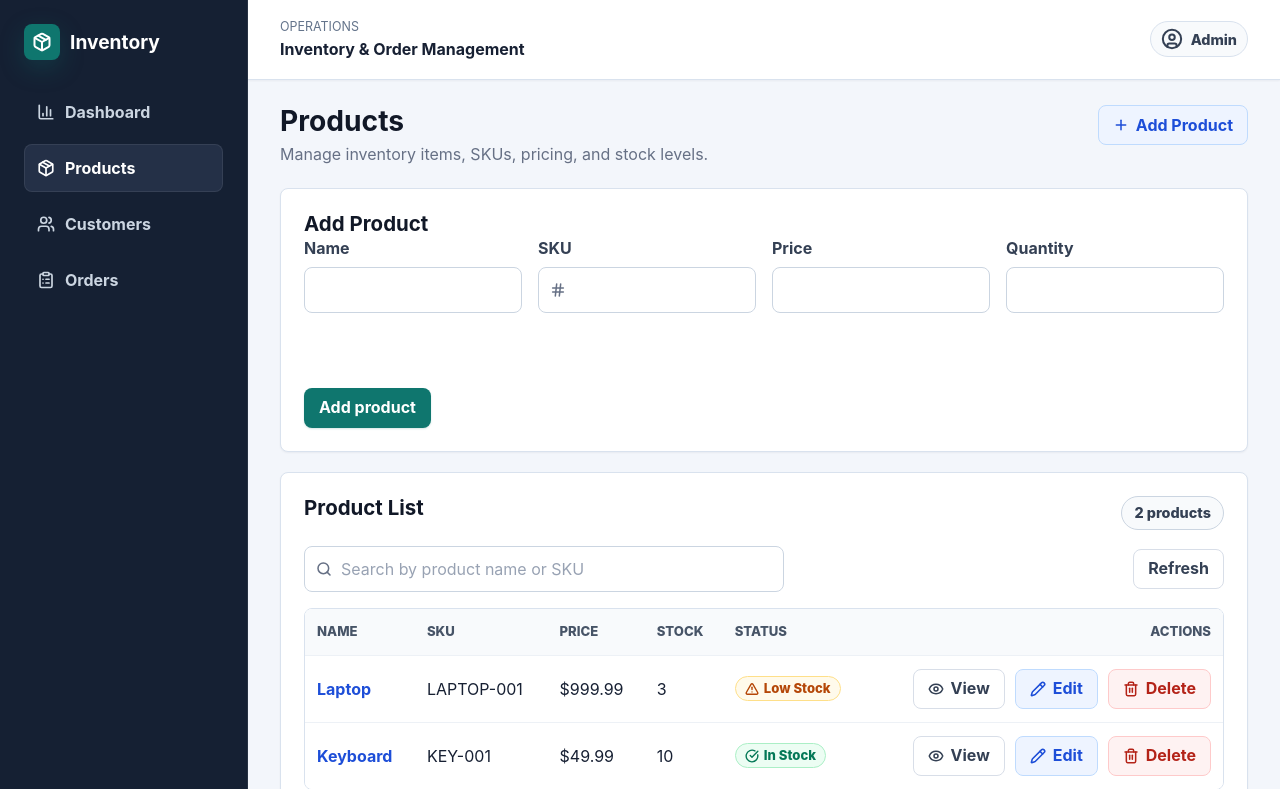
Test case: frontend flows › edit product form opens with existing SKU without showing a duplicate SKU message
Expected: the link "Laptop" is shown, [317,677,371,701]
Click the button "Edit" in the row of "LAPTOP-001".
click(1056, 689)  # box [1015,669,1098,709]
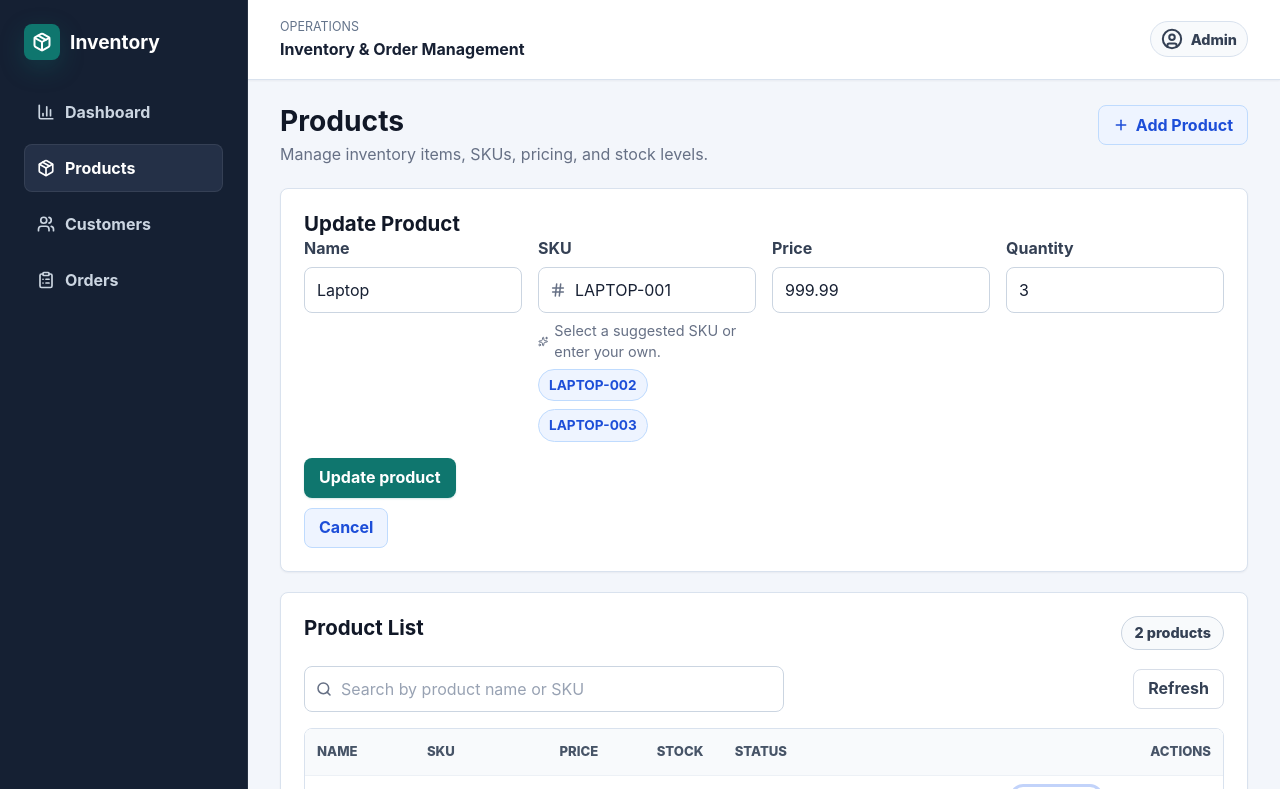
Expected: the heading "Update Product" is shown, [304,212,460,236]
Expected: the field labelled "SKU" holds "LAPTOP-001", [538,267,756,313]
